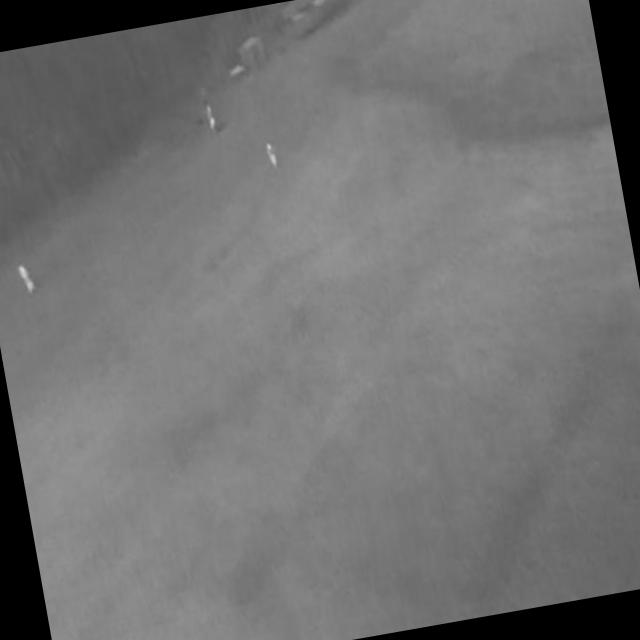person: (18, 264, 36, 297), (266, 141, 278, 167), (206, 106, 217, 130)
